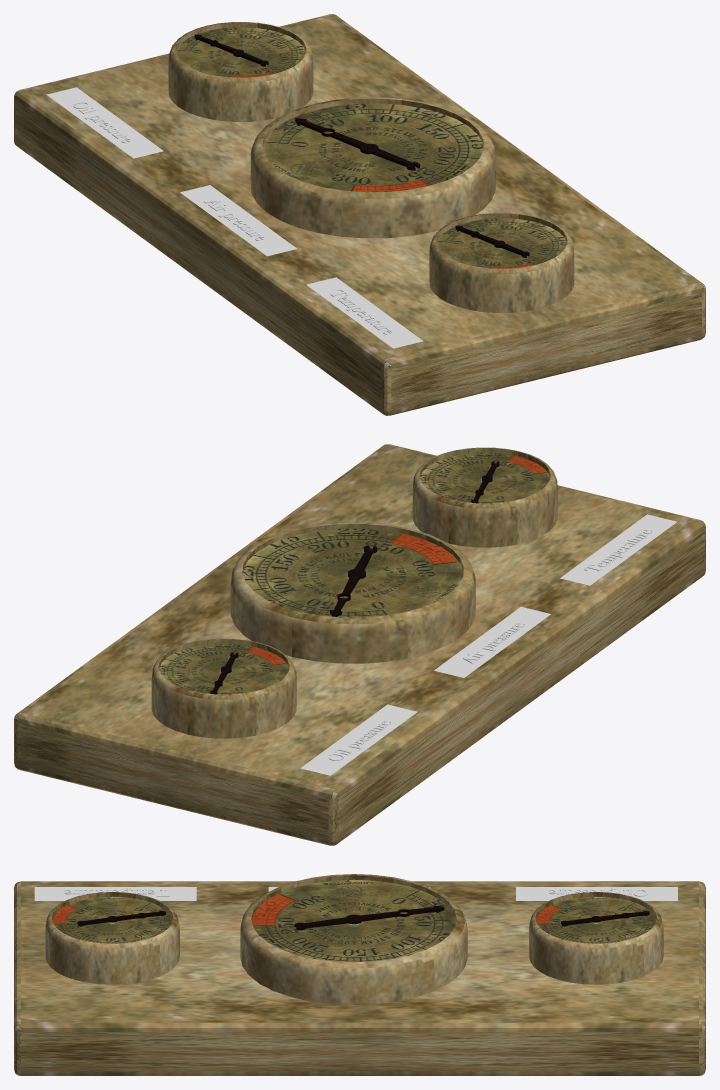
The model's file is Gauges.FBX.
3 renders of one model, top to bottom at view 1: azimuth 30°, elevation 25°; view 2: azimuth 150°, elevation 25°; view 3: azimuth 270°, elevation 25°, orthographic. The views are drawn at different scales.
Visible parts, largest first — view 1: Box002, Gauge001, Gauge002, Gauge004, Plane002, Plane003, Plane001, Cylinder005; view 2: Box002, Gauge001, Gauge004, Gauge002, Plane001, Plane003, Plane002, Cylinder005; view 3: Box002, Gauge001, Gauge002, Gauge004, Plane003, Plane002, Cylinder005, Cylinder008, Cylinder006.
Part boxes in pixels (x1,y1,x2,y2): Box002: (14,14,705,415); Gauge001: (250,97,495,238); Gauge002: (429,213,574,312); Gauge004: (168,22,313,121); Plane002: (46,87,163,158); Plane003: (306,277,423,348); Plane001: (180,185,296,256); Cylinder005: (295,118,420,170); Box002: (14,444,705,845); Gauge001: (230,522,475,663); Gauge004: (151,638,296,738); Gauge002: (412,447,557,547); Plane001: (434,606,550,677); Plane003: (560,514,677,585); Plane002: (300,704,417,775); Cylinder005: (330,545,377,616); Box002: (14,881,705,1075); Gauge001: (240,874,467,1004); Gauge002: (45,892,179,984); Gauge004: (529,892,663,984); Plane003: (34,887,196,900); Plane002: (516,887,677,900); Cylinder005: (294,905,444,930); Cylinder008: (561,911,649,926); Cylinder006: (77,910,165,926).
Bounding box in the file's own units: 0.5 × 0.1444 × 1.
